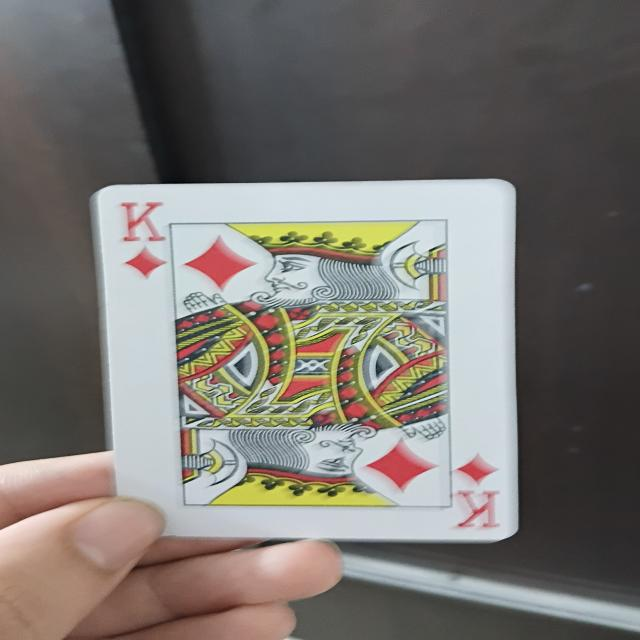KD: (100, 183, 518, 544)
